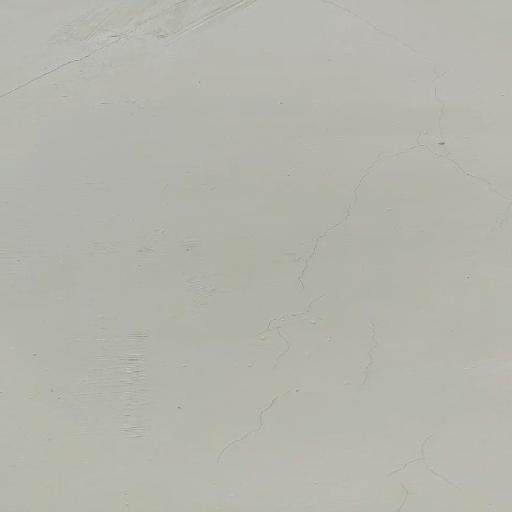employee-detectio-system: (34, 55, 464, 468)
